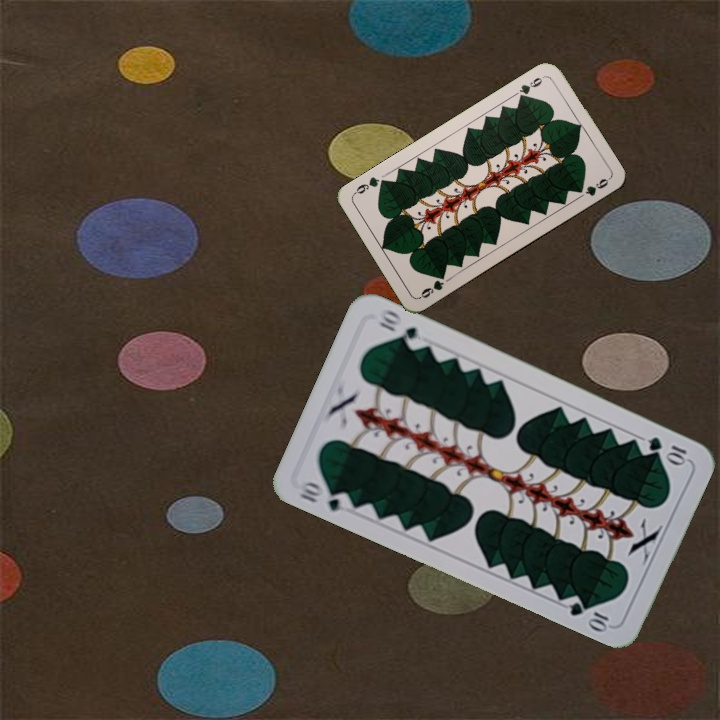G10: (294, 477, 354, 515), (644, 432, 690, 467)
G9: (511, 72, 548, 103), (415, 269, 448, 301)
